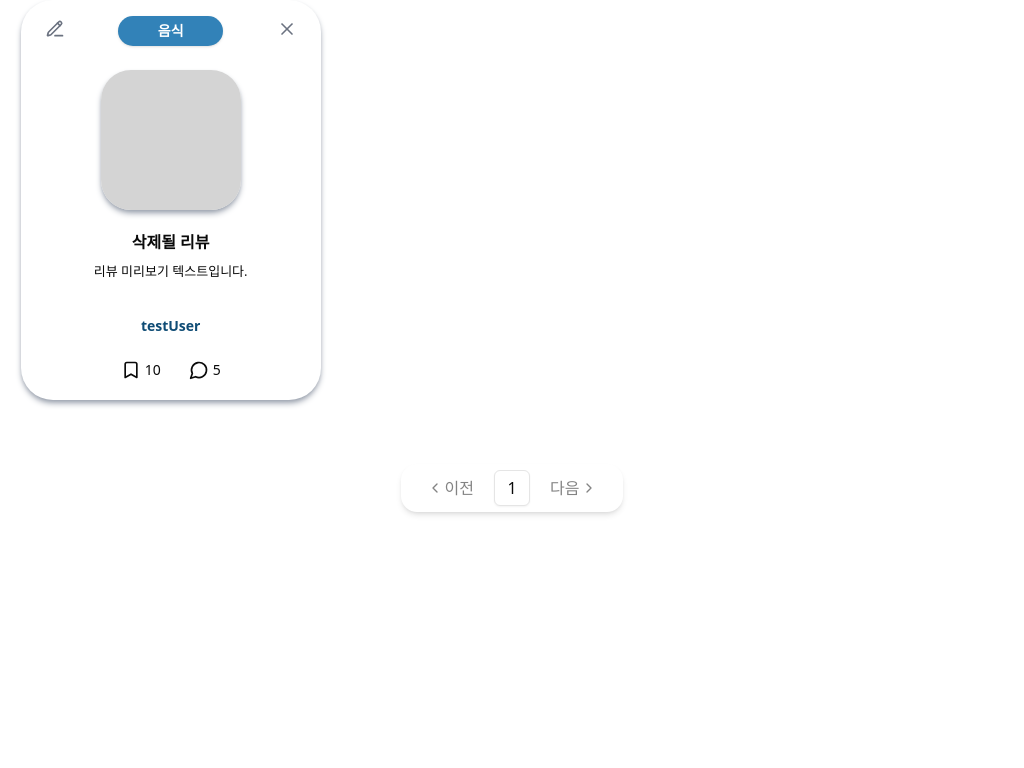
Test case: src/features/reviews/my/ui/MyBookmarkedReviews.tsx › 기능 테스트 › 저장한 후기 중 내 게시글을 삭제할 수 있다.
Step 1. Click the button named "삭제될 리뷰 리뷰 삭제" → x=287, y=29, box [277,19,297,39]
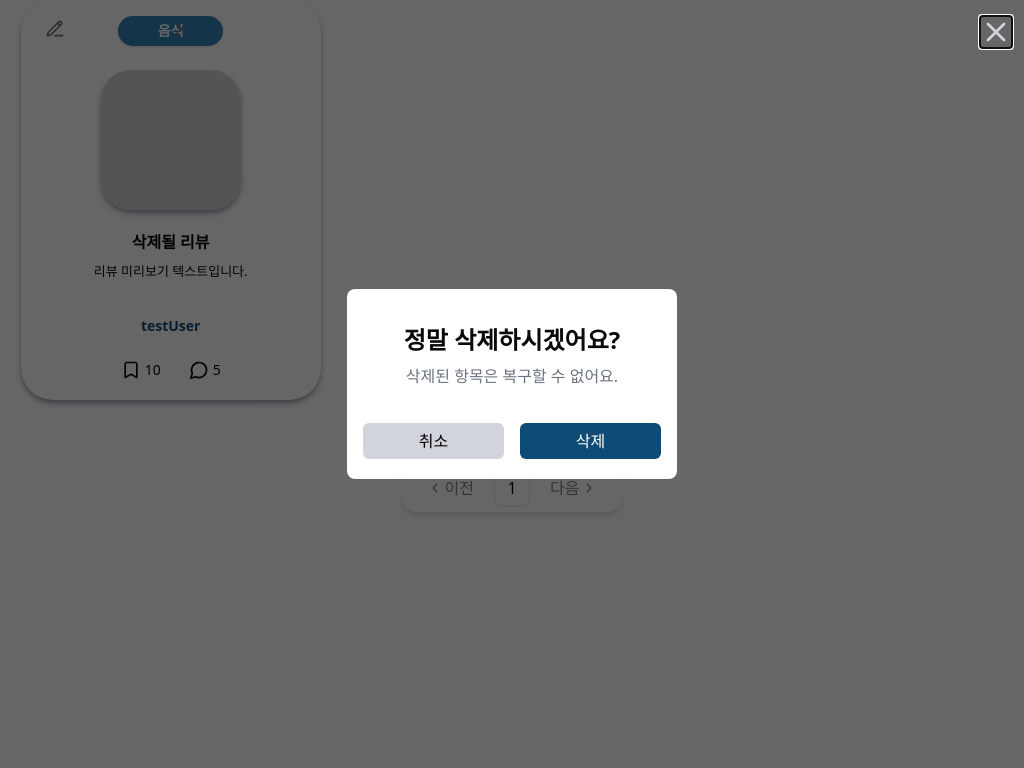
Step 2. Click the button "삭제" → x=590, y=441, box [520,423,661,459]
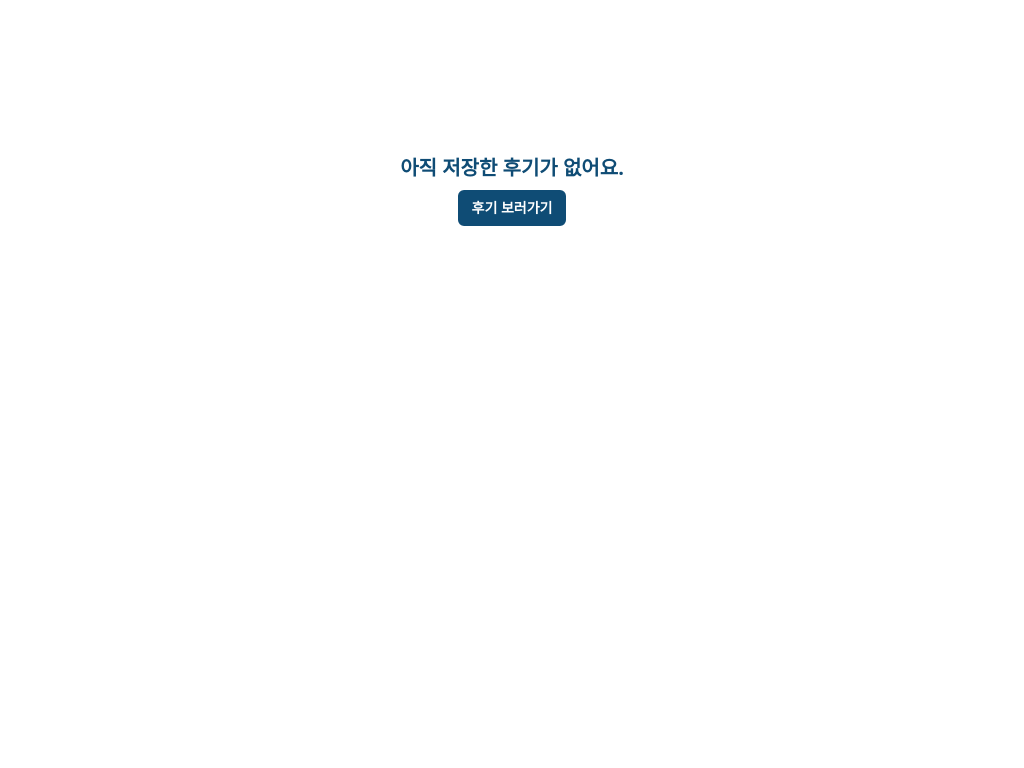
Expected: the text "아직 저장한 후기가 없어요." is shown, [400,154,624,182]
